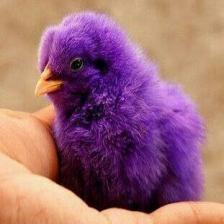purple: (39, 12, 205, 212)
